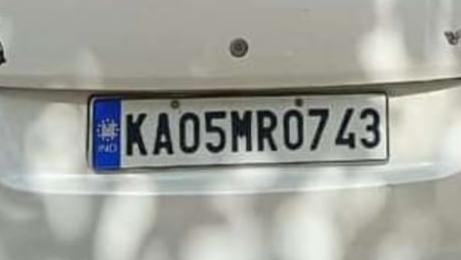0: (177, 107, 203, 159), (280, 106, 306, 152)
3: (358, 103, 384, 151)
4: (334, 102, 358, 152)
5: (205, 107, 229, 157)
7: (305, 105, 332, 153)
A: (151, 107, 175, 159)
K: (122, 110, 150, 158)
M: (228, 105, 254, 155)
R: (255, 105, 278, 155)
